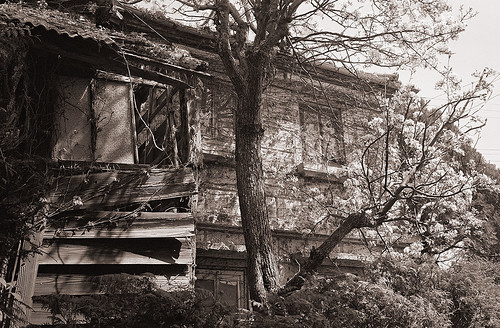building: (20, 7, 218, 301)
tree: (208, 1, 434, 312)
